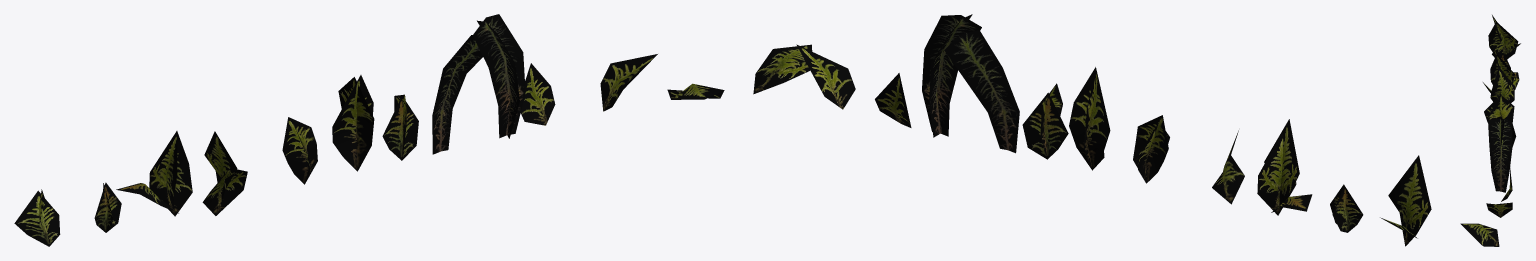
The model's file is moss_01.gltf.
3 views of the same model, side by side, from view 1: azimuth 30°, elevation 25°; view 2: azimuth 150°, elevation 25°; view 3: azimuth 270°, elevation 25° (orthographic). The views are drawn at different scales.
Parts seen in each view (by area): view 1: moss_01_tall_b_LOD0, moss_01_f_LOD0, moss_01_c_LOD0, moss_01_tall_a_LOD0, moss_01_d_LOD0, moss_01_e_LOD0, moss_01_a_LOD0, moss_01_g_LOD0, moss_01_h_LOD0, moss_01_i_LOD0, moss_01_b_LOD0, moss_01_j_LOD0; view 2: moss_01_tall_a_LOD0, moss_01_tall_b_LOD0, moss_01_c_LOD0, moss_01_f_LOD0, moss_01_a_LOD0, moss_01_g_LOD0, moss_01_i_LOD0, moss_01_e_LOD0, moss_01_j_LOD0, moss_01_h_LOD0, moss_01_b_LOD0, moss_01_d_LOD0; view 3: moss_01_tall_b_LOD0, moss_01_a_LOD0, moss_01_j_LOD0, moss_01_d_LOD0, moss_01_f_LOD0, moss_01_c_LOD0, moss_01_i_LOD0, moss_01_e_LOD0, moss_01_h_LOD0, moss_01_tall_a_LOD0, moss_01_b_LOD0.
Boxes of the visible parts, x1,y1,x2,y2 form: moss_01_tall_b_LOD0: (472,14,525,138); moss_01_f_LOD0: (332,75,374,171); moss_01_c_LOD0: (116,131,192,216); moss_01_tall_a_LOD0: (432,35,482,154); moss_01_d_LOD0: (202,131,247,215); moss_01_e_LOD0: (282,117,317,184); moss_01_a_LOD0: (14,189,60,246); moss_01_g_LOD0: (382,94,418,160); moss_01_h_LOD0: (520,63,555,125); moss_01_i_LOD0: (600,54,657,111); moss_01_b_LOD0: (94,182,121,232); moss_01_j_LOD0: (667,83,724,99); moss_01_tall_a_LOD0: (944,30,1019,153); moss_01_tall_b_LOD0: (922,14,981,137); moss_01_c_LOD0: (1257,119,1312,215); moss_01_f_LOD0: (1069,67,1110,170); moss_01_a_LOD0: (1380,155,1431,246); moss_01_g_LOD0: (1022,83,1068,159); moss_01_i_LOD0: (796,44,855,109); moss_01_e_LOD0: (1133,115,1169,183); moss_01_j_LOD0: (753,44,812,94); moss_01_h_LOD0: (875,73,911,127); moss_01_b_LOD0: (1330,184,1363,232); moss_01_d_LOD0: (1212,130,1244,204); moss_01_tall_b_LOD0: (1488,116,1512,192); moss_01_a_LOD0: (1488,15,1520,59); moss_01_j_LOD0: (1460,223,1499,246); moss_01_d_LOD0: (1483,66,1514,102); moss_01_f_LOD0: (1487,94,1514,122); moss_01_c_LOD0: (1490,47,1519,89); moss_01_i_LOD0: (1486,202,1512,217); moss_01_e_LOD0: (1484,91,1500,122); moss_01_h_LOD0: (1501,167,1512,201); moss_01_tall_a_LOD0: (1511,121,1516,147); moss_01_b_LOD0: (1500,53,1510,68).
Bounding box in the file's own units: 0.2153 × 0.0404 × 0.0294.
1 material, 1 textured.
